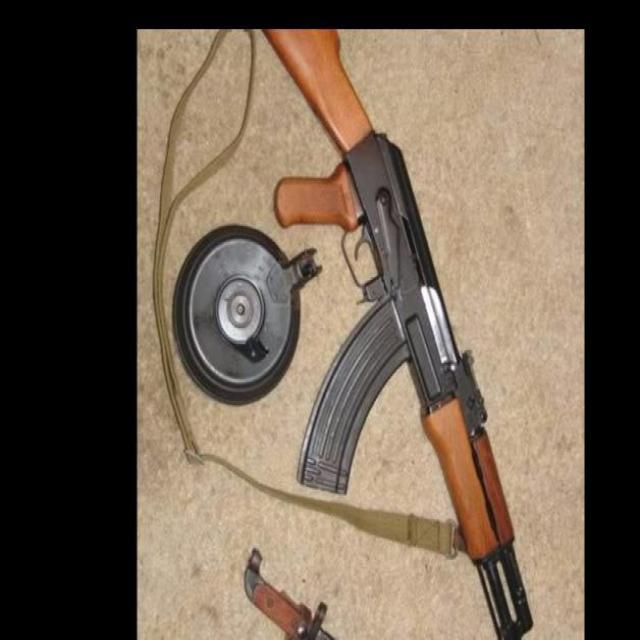weapon: (262, 31, 533, 640)
